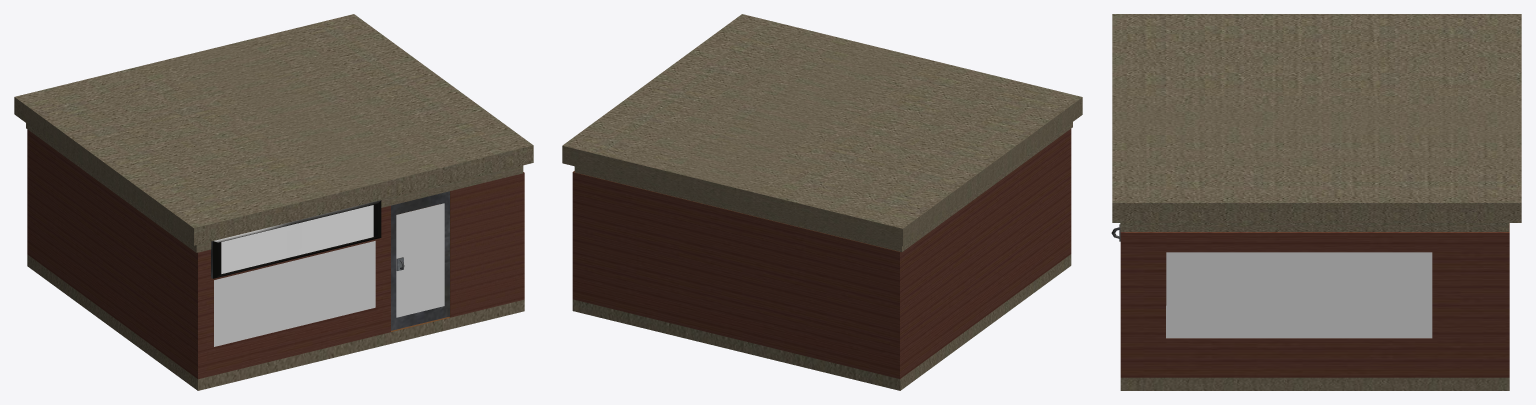
Rendered from Simple Shop final.FBX.
The picture shows the model from 3 angles, left to right: view 1: azimuth 30°, elevation 25°; view 2: azimuth 150°, elevation 25°; view 3: azimuth 270°, elevation 25°; orthographic projection. The views are drawn at different scales.
Visible parts, largest first — view 1: Roof, Shop, Window Glass, Store Sign, Door_Glass, Door; view 2: Roof, Shop; view 3: Roof, Shop, Side Window Glass.
Part boxes in pixels (bbox=[...]): Roof: bbox=[14, 14, 533, 252]; Shop: bbox=[27, 129, 524, 390]; Window Glass: bbox=[214, 241, 375, 346]; Store Sign: bbox=[211, 200, 381, 278]; Door_Glass: bbox=[396, 203, 444, 317]; Door: bbox=[391, 191, 449, 330]; Roof: bbox=[562, 14, 1082, 251]; Shop: bbox=[572, 129, 1071, 390]; Roof: bbox=[1112, 14, 1521, 231]; Shop: bbox=[1120, 223, 1509, 390]; Side Window Glass: bbox=[1166, 252, 1432, 338].
Size of the model in its own units: 161 by 75.79 by 148.
1 material, 1 textured.
